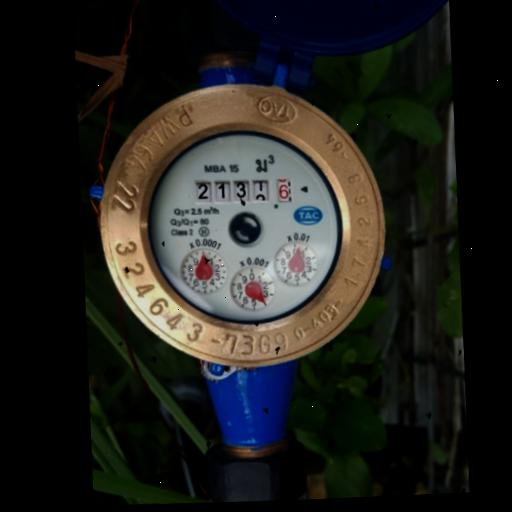1: (254, 180, 270, 202), (215, 181, 231, 202)
2: (196, 182, 212, 203)
3: (235, 180, 249, 202)
6: (277, 179, 291, 202)
border_water_meter_number: (193, 175, 293, 207)
